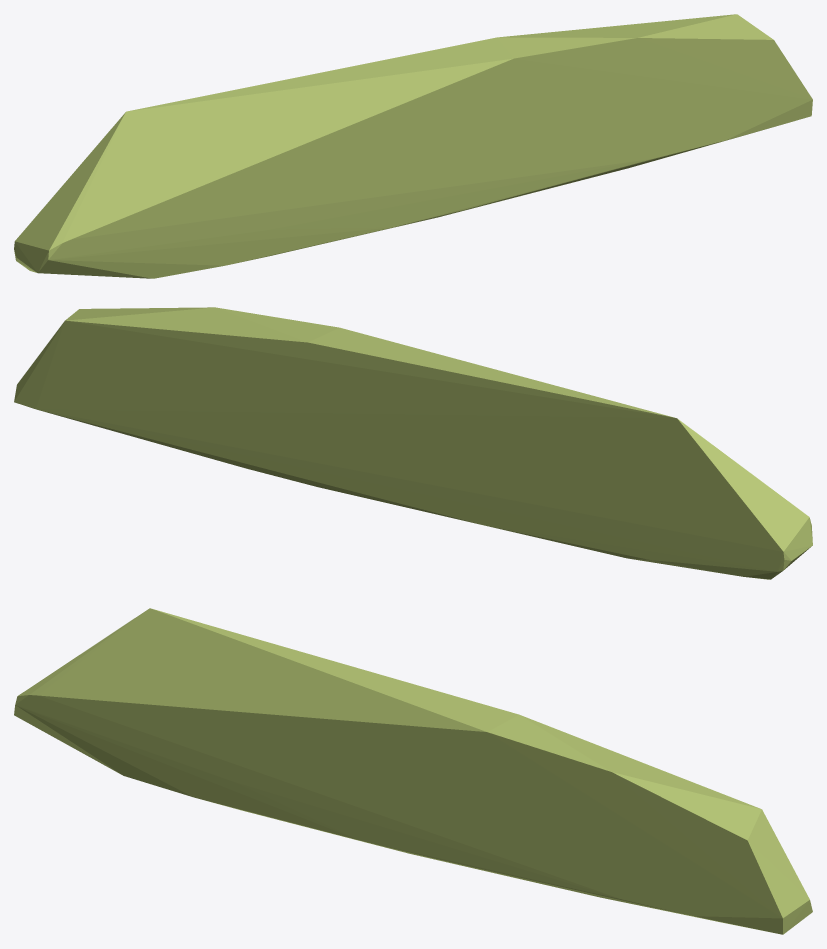
Rendered from engineComponent_timing_chain_guide_b01.glb.
The picture shows the model from 3 angles, top to bottom: view 1: azimuth 30°, elevation 25°; view 2: azimuth 150°, elevation 25°; view 3: azimuth 330°, elevation 25°; orthographic projection.
Visible parts, largest first — view 1: geometry_0; view 2: geometry_0; view 3: geometry_0.
Boxes of the visible parts, bbox=[...] form: geometry_0: bbox=[14, 14, 812, 278]; geometry_0: bbox=[14, 307, 812, 579]; geometry_0: bbox=[14, 608, 812, 934].
Bounding box in the file's own units: 0.4793 × 0.0924 × 0.0334.
